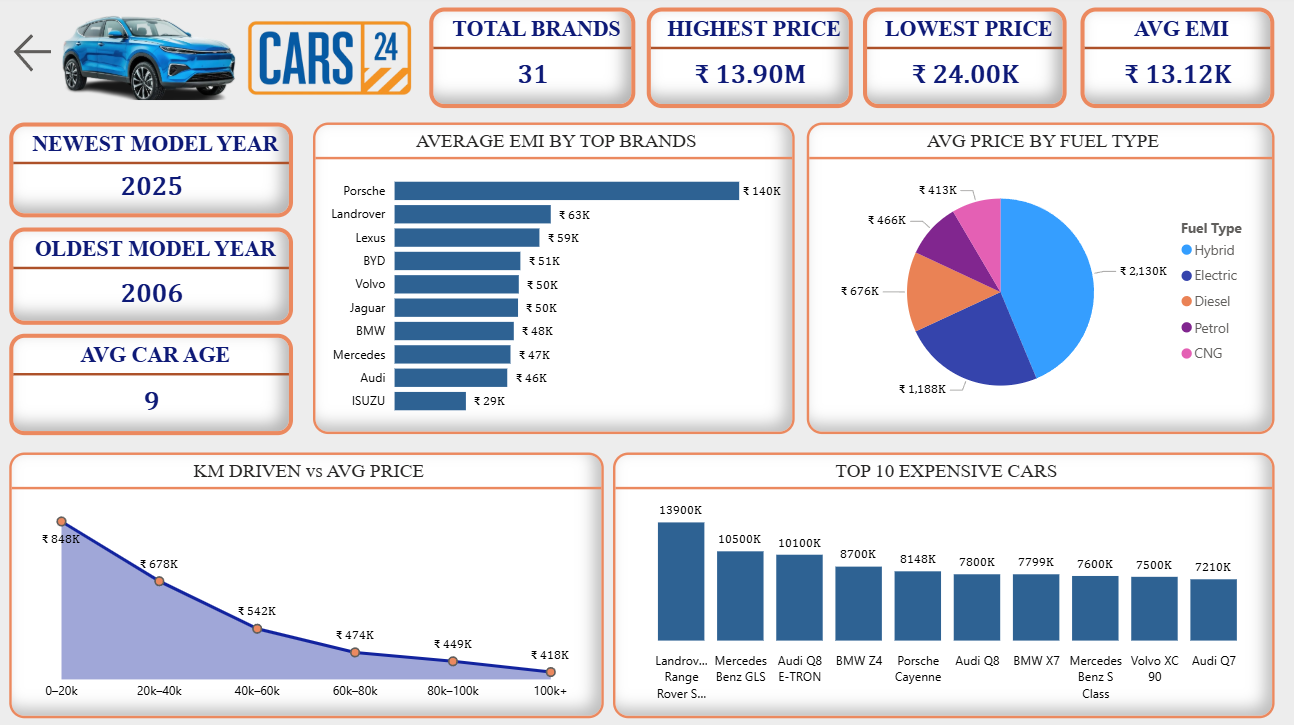

The dashboard page shown, as its layout file describes it:
{"tool":"powerbi","page":{"name":"Page 2","canvas":[1280,720],"ordinal":1},"visuals":[{"type":"card","title":"HIGHEST PRICE","fields":{"Values":["Max(cars24_all_cities (2).price)"]},"box":[640,12.5,201.7,98.8],"z":0},{"type":"card","title":"LOWEST PRICE","fields":{"Values":["Min(cars24_all_cities (2).price)"]},"box":[851.5,12.5,199,98.8],"z":1000},{"type":"card","title":"TOTAL BRANDS","fields":{"Values":["Count(cars24_all_cities (2).brand)"]},"box":[427.1,12.5,201.7,98.8],"z":2000},{"type":"card","title":"AVG CAR   AGE","fields":{"Values":["Avg(cars24_all_cities (2).car_age_years)"]},"box":[15.9,331.4,277.6,99],"z":3000},{"type":"card","title":"AVG EMI","fields":{"Values":["Avg(cars24_all_cities (2).emi)"]},"box":[1064.3,12.5,189.2,98.8],"z":4000},{"type":"card","title":"OLDEST MODEL YEAR","fields":{"Values":["Min(cars24_all_cities (2).year_of_manufacture)"]},"box":[15.9,227.4,277.6,95.4],"z":5000},{"type":"card","title":"NEWEST MODEL YEAR","fields":{"Values":["Max(cars24_all_cities (2).year_of_manufacture)"]},"box":[15.9,124.7,277.6,92.9],"z":6000},{"type":"clusteredBarChart","title":"AVERAGE EMI BY TOP BRANDS","fields":{"Category":["cars24_all_cities (2).brand"],"Y":["Avg(cars24_all_cities (2).emi)"]},"box":[312.5,125,471.2,305],"z":7000},{"type":"pieChart","title":"AVG PRICE BY FUEL TYPE","fields":{"Category":["cars24_all_cities (2).fuel_type"],"Y":["Avg(cars24_all_cities (2).price)"]},"box":[796.2,125,457.5,305],"z":8000},{"type":"columnChart","title":"TOP 10 EXPENSIVE CARS","fields":{"Category":["cars24_all_cities (2).car_name"],"Y":["Max(cars24_all_cities.price)"]},"box":[606.2,447.5,647.5,260],"z":9000},{"type":"lineChart","title":"KM DRIVEN  vs  AVG PRICE","fields":{"Category":["cars24_all_cities.KM Range"],"Y":["Avg(cars24_all_cities (2).price)"]},"box":[16.2,447.5,581.2,260],"z":10000},{"type":"image","box":[50.1,19.5,208.7,83.5],"z":11000},{"type":"image","box":[231,19.5,196.2,84.9],"z":12000},{"type":"actionButton","box":[15.3,33.4,100.2,47.3],"z":14000}]}

Visuals, with their boxes in screenshot pixels (x1, y1, x2, y2), scaled from the page's 1280x720 canvas onto the 1294x725 screenshot:
"HIGHEST PRICE" card: bbox=[647, 13, 851, 112]
"LOWEST PRICE" card: bbox=[861, 13, 1062, 112]
"TOTAL BRANDS" card: bbox=[432, 13, 636, 112]
"AVG CAR   AGE" card: bbox=[16, 334, 297, 433]
"AVG EMI" card: bbox=[1076, 13, 1267, 112]
"OLDEST MODEL YEAR" card: bbox=[16, 229, 297, 325]
"NEWEST MODEL YEAR" card: bbox=[16, 126, 297, 219]
"AVERAGE EMI BY TOP BRANDS" clusteredBarChart: bbox=[316, 126, 792, 433]
"AVG PRICE BY FUEL TYPE" pieChart: bbox=[805, 126, 1267, 433]
"TOP 10 EXPENSIVE CARS" columnChart: bbox=[613, 451, 1267, 712]
"KM DRIVEN  vs  AVG PRICE" lineChart: bbox=[16, 451, 604, 712]
image: bbox=[51, 20, 262, 104]
image: bbox=[234, 20, 432, 105]
actionButton: bbox=[15, 34, 117, 81]
